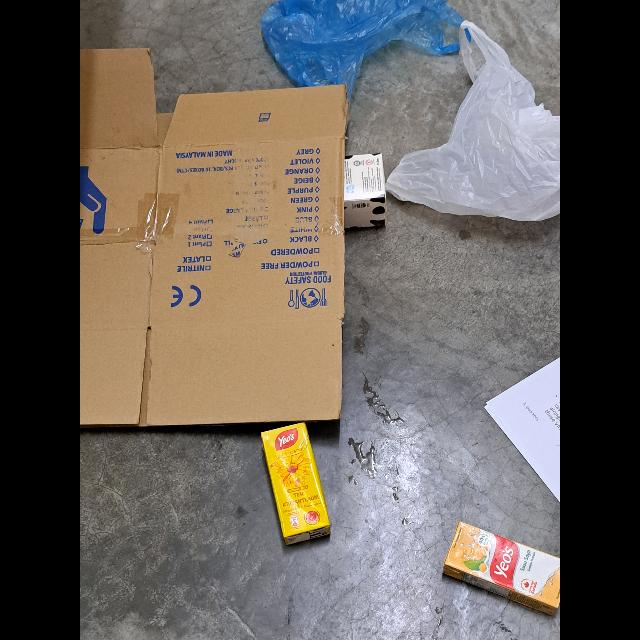caixinha: (442, 520, 560, 618), (260, 423, 332, 545), (342, 154, 386, 230)
papel: (482, 352, 560, 508)
papelão: (80, 46, 348, 424)
sacola plástica: (388, 19, 560, 225), (259, 1, 473, 108)
